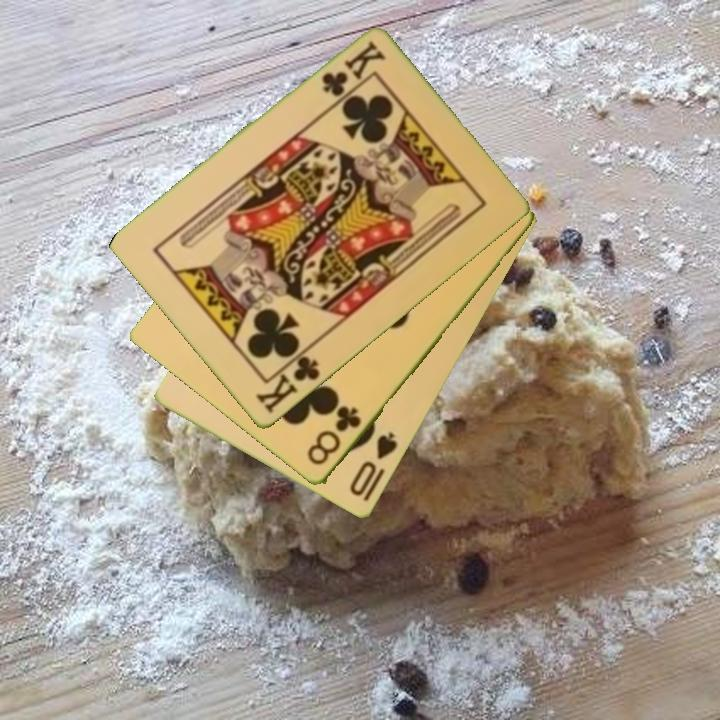10s: (346, 429, 401, 500)
8c: (303, 402, 365, 469)
Kc: (251, 345, 323, 417), (317, 37, 387, 100)
